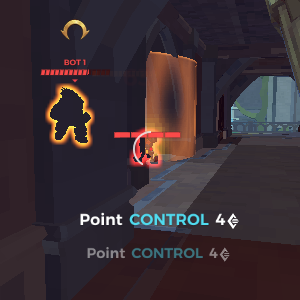model: (46, 81, 95, 155)
